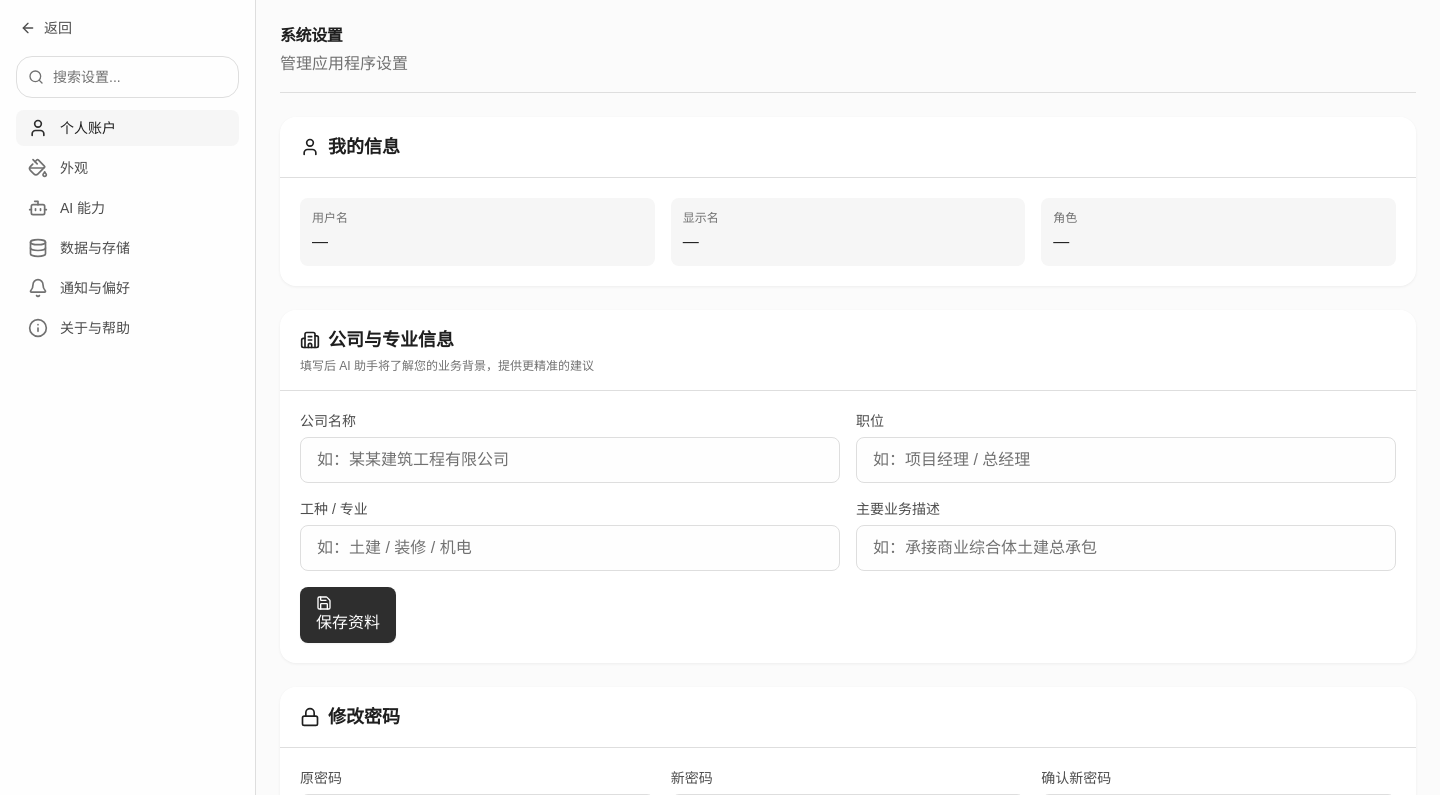
Test: Settings.tsx (v0.83.0 重构：分类导航 + 按需挂载 + 搜索) › 搜索关键词显示命中项
In the field with placeholder "搜索设置...": (128, 77) [16,56,239,98], type "主题"
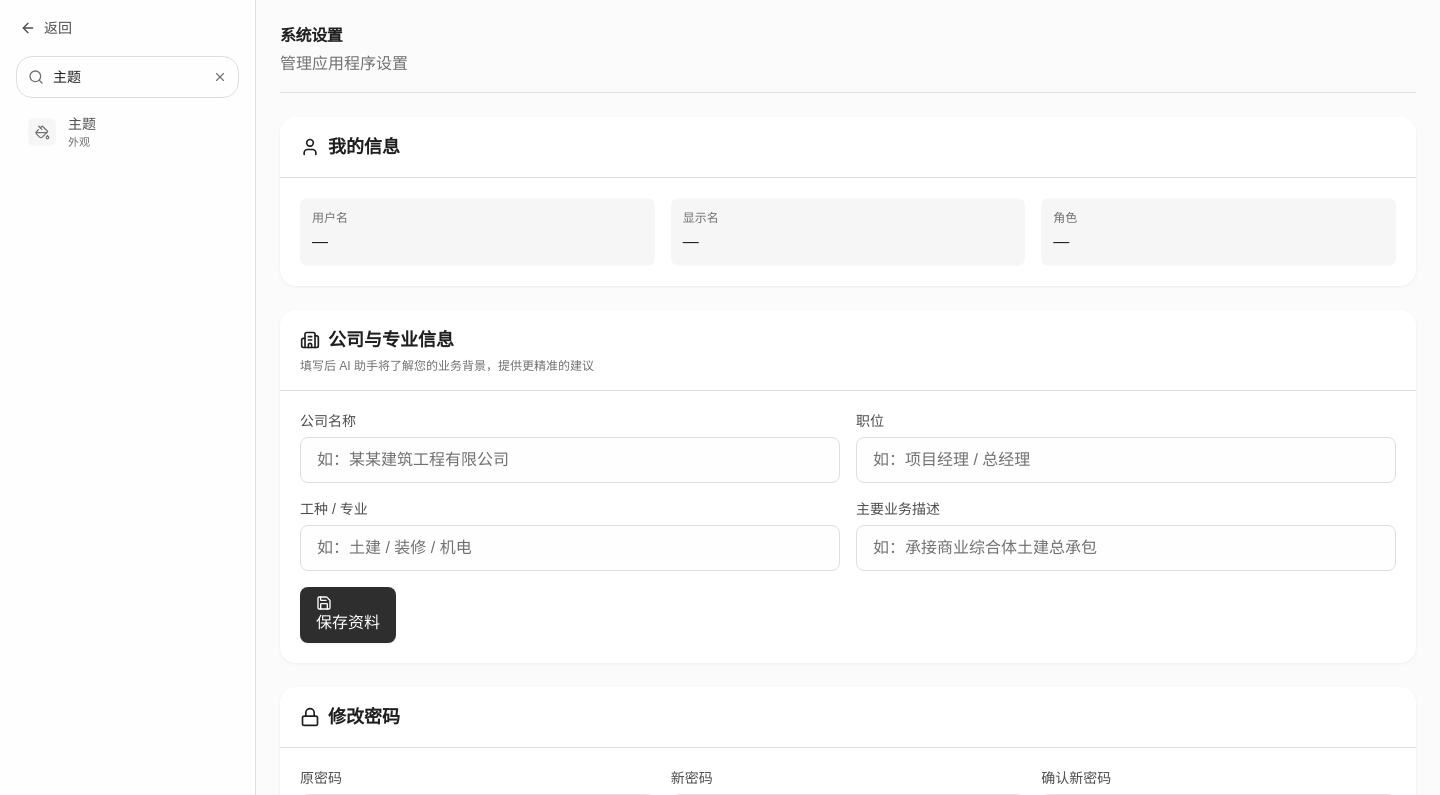
Expected: the text "主题" is shown, [68,114,96,134]
